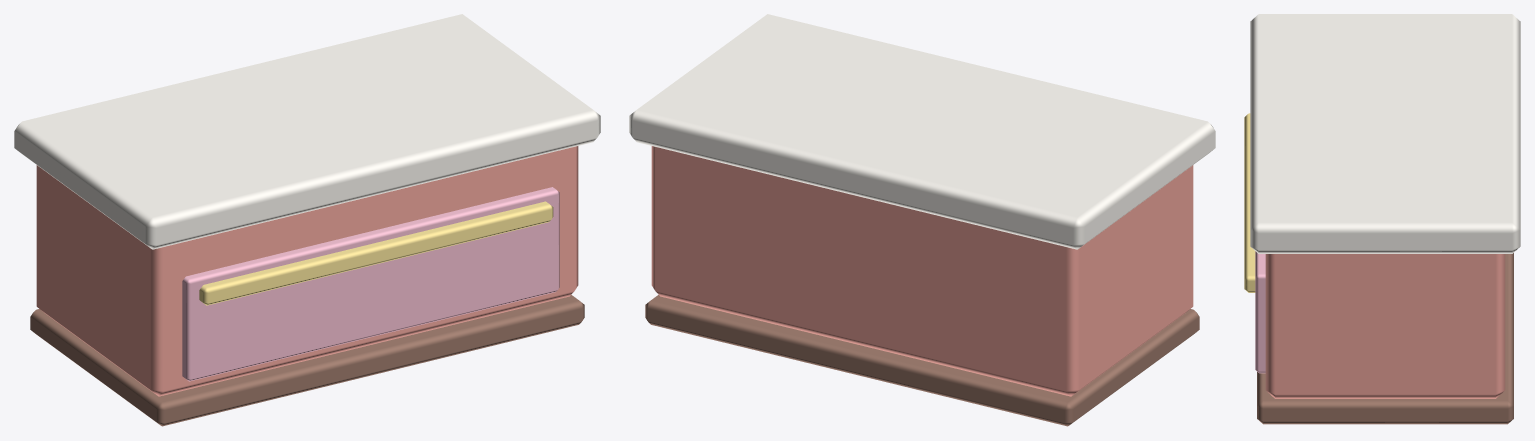
File: counter_extension.glb
The picture shows the model from 3 angles, left to right: view 1: azimuth 30°, elevation 25°; view 2: azimuth 150°, elevation 25°; view 3: azimuth 270°, elevation 25°; orthographic projection. The views are drawn at different scales.
Parts seen in each view (by area): view 1: CounterExtension_Top, CounterExtension_Body, CounterExtension_FrontInset, CounterExtension_Platform, CounterExtension_Accent; view 2: CounterExtension_Body, CounterExtension_Top, CounterExtension_Platform; view 3: CounterExtension_Top, CounterExtension_Body, CounterExtension_Platform, CounterExtension_Accent, CounterExtension_FrontInset.
Boxes of the visible parts, x1,y1,x2,y2 form: CounterExtension_Top: [14, 14, 600, 249]; CounterExtension_Body: [36, 146, 578, 396]; CounterExtension_FrontInset: [182, 187, 559, 381]; CounterExtension_Platform: [30, 294, 584, 426]; CounterExtension_Accent: [199, 201, 553, 305]; CounterExtension_Body: [651, 146, 1193, 396]; CounterExtension_Top: [629, 14, 1215, 249]; CounterExtension_Platform: [645, 294, 1199, 426]; CounterExtension_Top: [1250, 14, 1520, 253]; CounterExtension_Body: [1265, 254, 1505, 398]; CounterExtension_Platform: [1257, 253, 1513, 424]; CounterExtension_Accent: [1244, 113, 1255, 292]; CounterExtension_FrontInset: [1255, 251, 1265, 373].
Bounding box in the file's own units: 2.34 × 1.05 × 1.27.
